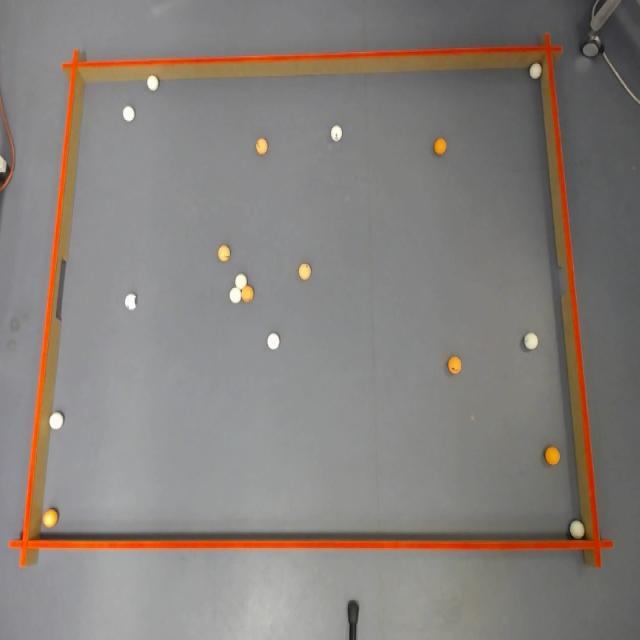orange_ball: (544, 446, 560, 466), (43, 508, 58, 528), (448, 356, 461, 374), (255, 138, 268, 155), (434, 138, 446, 155), (298, 263, 310, 280), (218, 245, 230, 262), (242, 285, 254, 302)
white_ball: (569, 520, 585, 539), (49, 412, 64, 429), (524, 333, 538, 350), (529, 62, 542, 80), (122, 105, 134, 122), (268, 333, 280, 350), (125, 293, 137, 310), (331, 125, 342, 142), (235, 274, 247, 289), (147, 75, 158, 91), (230, 288, 241, 304)
